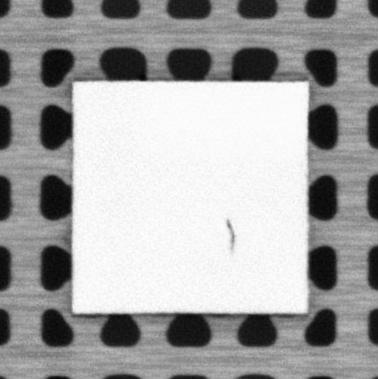DIE_INK: (225, 219, 235, 254)
